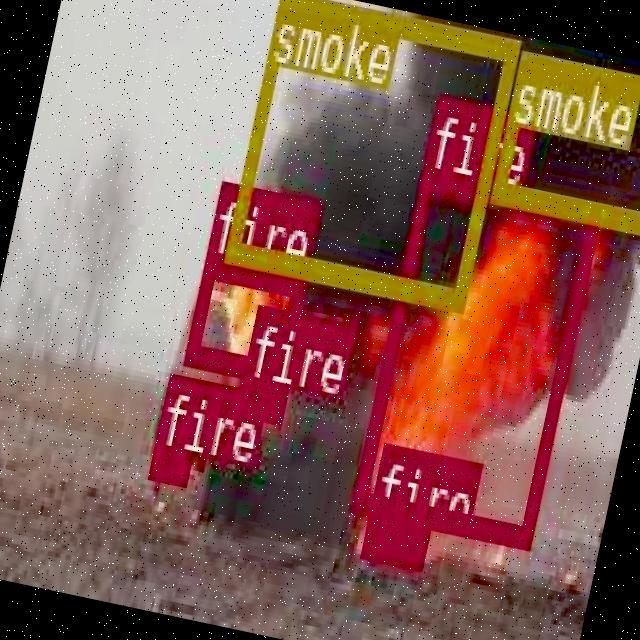fire: (350, 167, 600, 542), (184, 250, 306, 381), (361, 516, 428, 564), (233, 374, 286, 418), (147, 442, 191, 482)
smoke: (223, 0, 518, 308), (490, 47, 640, 231)
